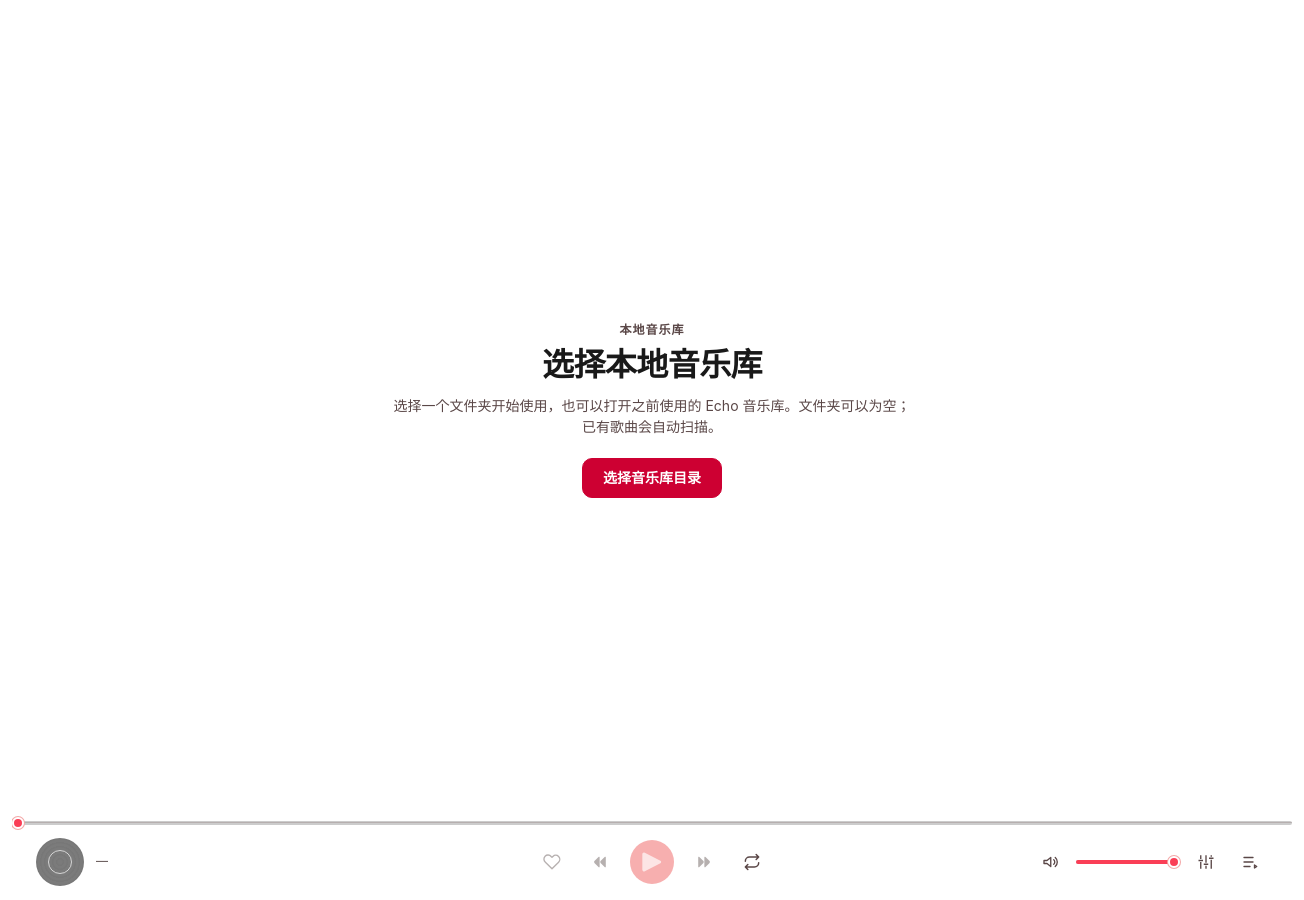
Test: Library activation without a status event › opens a existing library after selection
Click the button "选择音乐库目录": [652, 478] box [582,458,722,498]
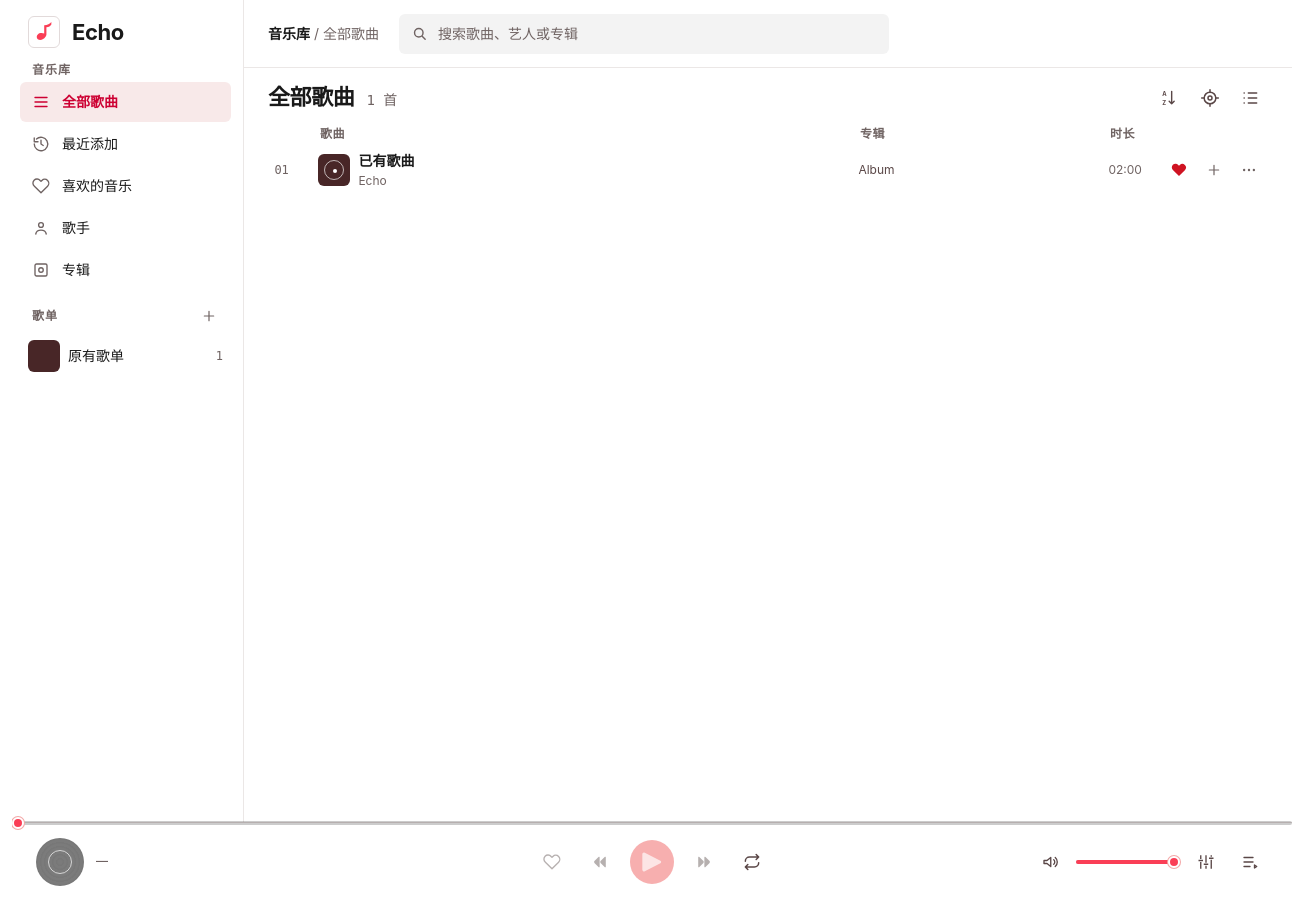
Now the element with test id "workspace" is shown
Now the element with test id "choose-root" is gone
Now the text "原有歌单" is shown, box [68,345,124,367]
